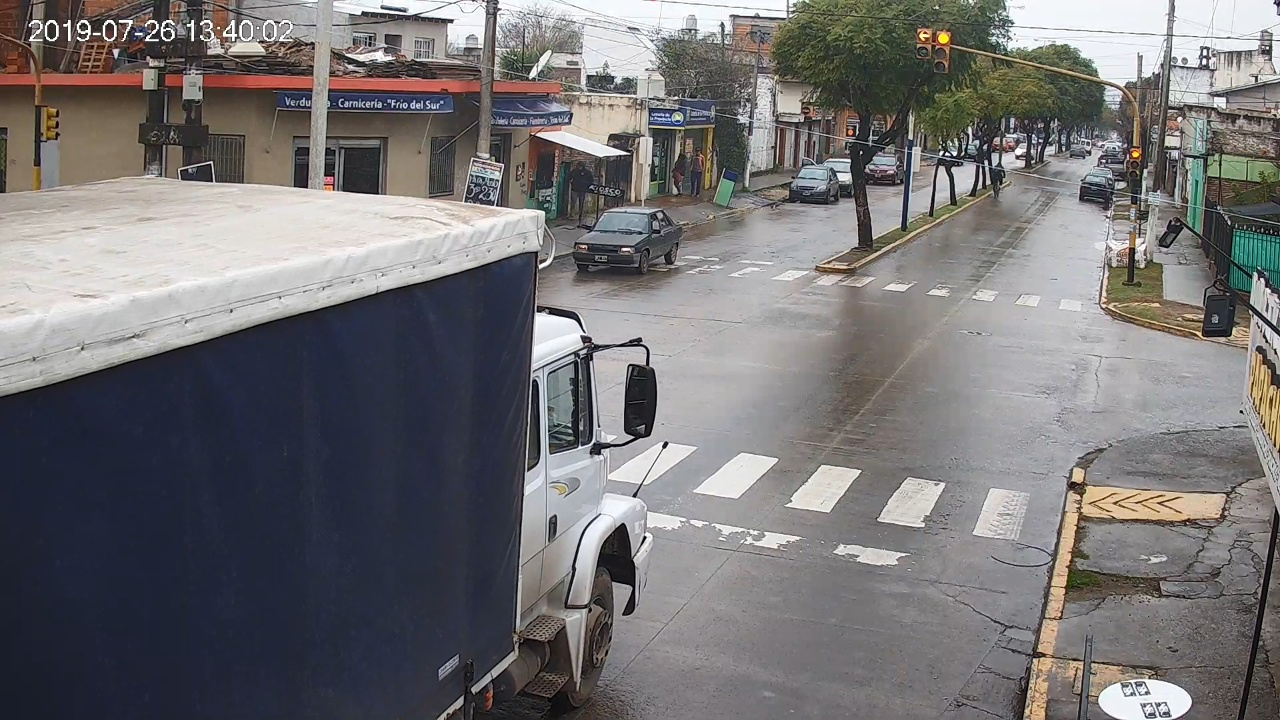traffic light: (934, 31, 949, 73), (1129, 147, 1140, 178)
truck: (3, 173, 656, 720)
